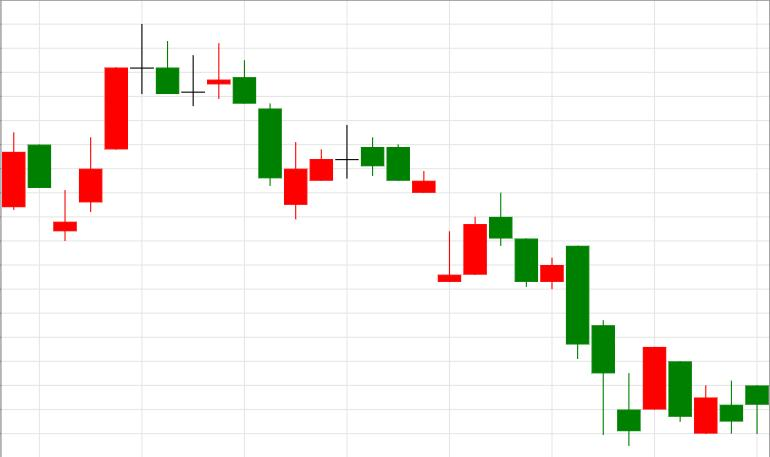evening_star_fall: (53, 23, 179, 242)
morning_star_rise: (489, 193, 666, 445)
